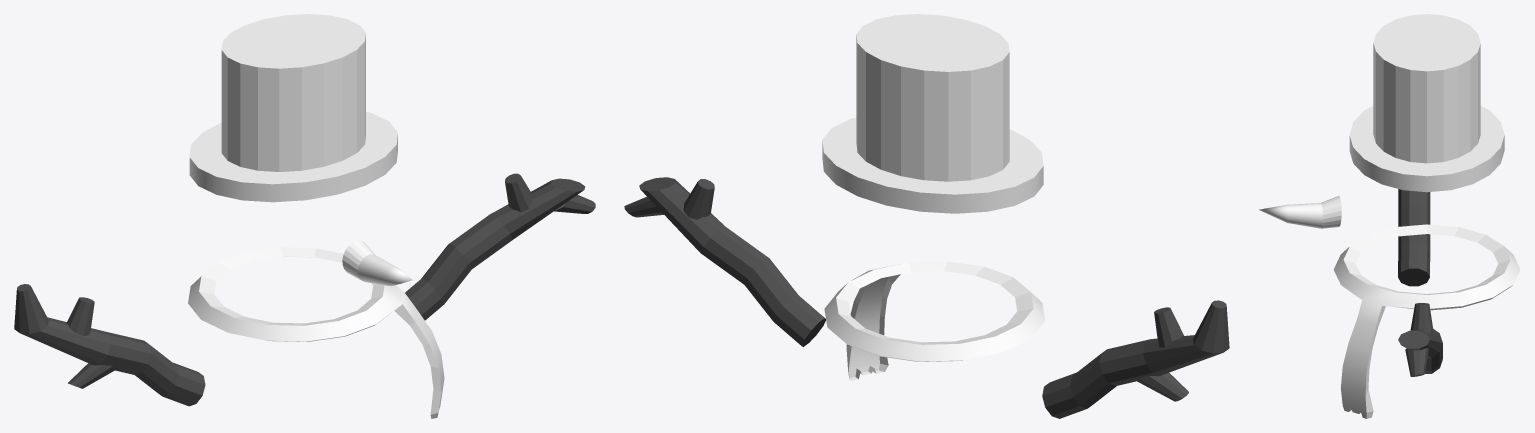
File: Snowman.fbx
The picture shows the model from 3 angles, left to right: view 1: azimuth 30°, elevation 25°; view 2: azimuth 150°, elevation 25°; view 3: azimuth 270°, elevation 25°; orthographic projection. The views are drawn at different scales.
Visible parts, largest first — view 1: hat, scarf, hand_R, hand_L, nose; view 2: hat, scarf, hand_L, hand_R; view 3: hat, scarf, hand_R, hand_L, nose.
Boxes of the visible parts, x1,y1,x2,y2 form: hat: [189, 14, 397, 202]; scarf: [188, 247, 444, 418]; hand_R: [14, 284, 205, 406]; hand_L: [405, 173, 595, 320]; nose: [342, 241, 412, 286]; hat: [822, 14, 1043, 213]; scarf: [824, 261, 1045, 380]; hand_L: [624, 177, 825, 346]; hand_R: [1042, 300, 1229, 418]; hat: [1349, 14, 1504, 192]; scarf: [1333, 224, 1520, 418]; hand_R: [1398, 189, 1430, 286]; hand_L: [1398, 303, 1442, 376]; nose: [1259, 196, 1341, 228].
Size of the model in its own units: 7.6 by 4.67 by 3.39.
